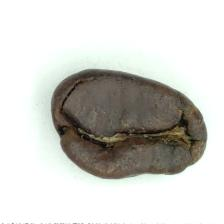NG: (64, 80, 195, 170)
